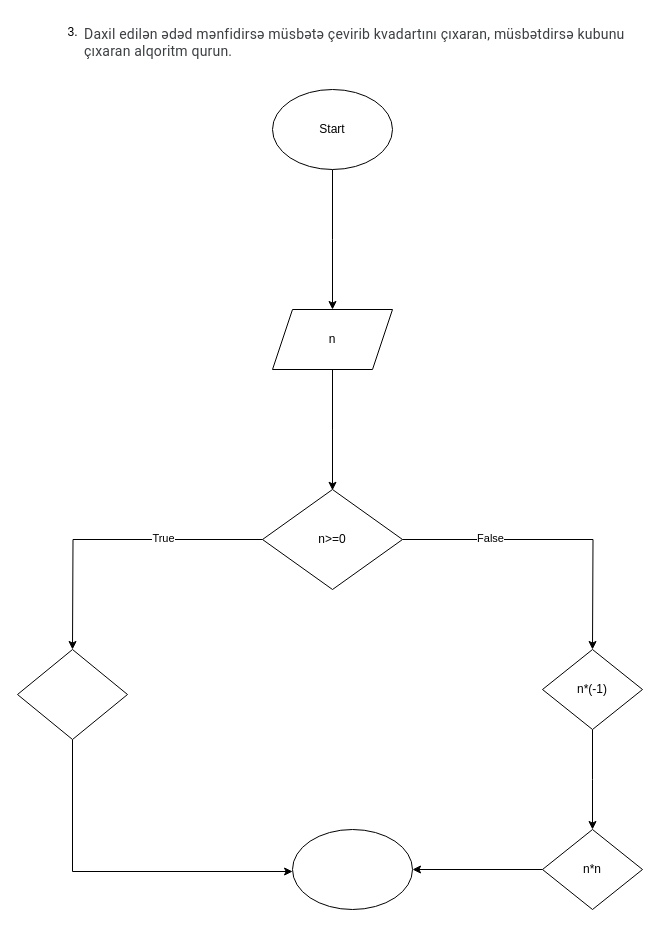
Some shapes in this 660 by 927 pixel diagram are drawn without their labels. The centre of each missing label's shape, as x and y in pixels:
"End" belongs at (352,869).
"n*n*n" belongs at (72,694).
